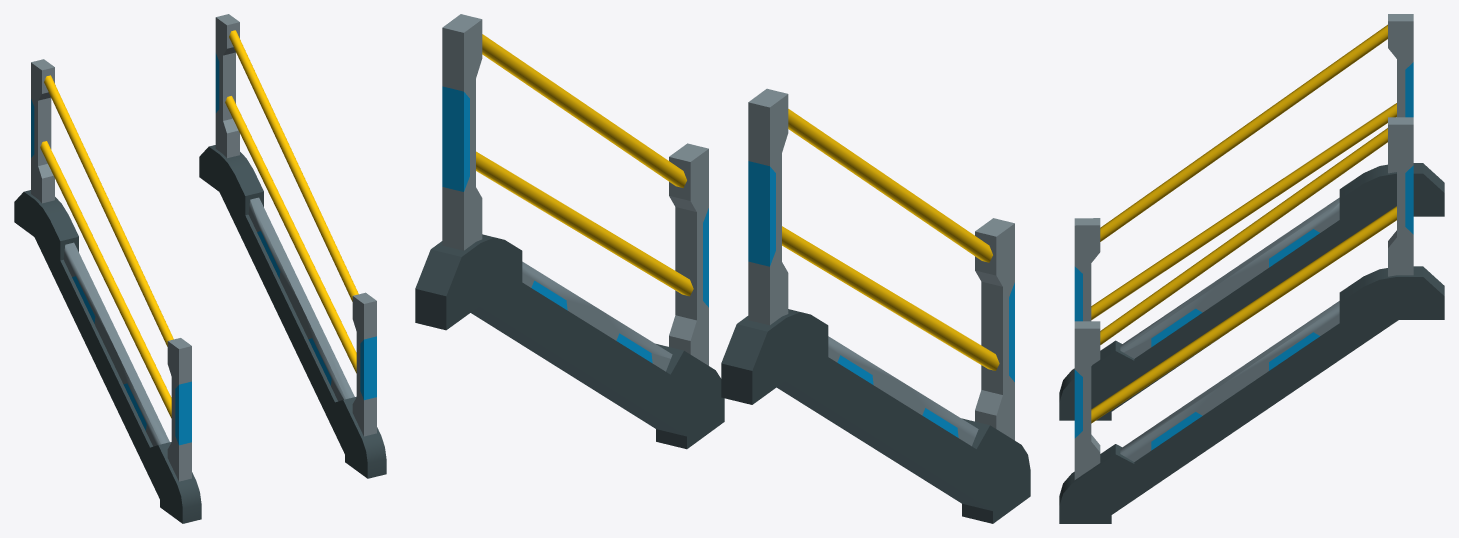
File: Stair_type_C_fence_002.fbx
3 views of the same model, side by side, from view 1: azimuth 30°, elevation 25°; view 2: azimuth 150°, elevation 25°; view 3: azimuth 270°, elevation 25° (orthographic). The views are drawn at different scales.
Parts seen in each view (by area): view 1: Stair_type_C_fence_002; view 2: Stair_type_C_fence_002; view 3: Stair_type_C_fence_002.
Boxes of the visible parts, x1,y1,x2,y2 form: Stair_type_C_fence_002: (14,14,386,523); Stair_type_C_fence_002: (415,14,1030,523); Stair_type_C_fence_002: (1059,14,1444,523).
Size of the model in its own units: 179 by 257 by 292.
